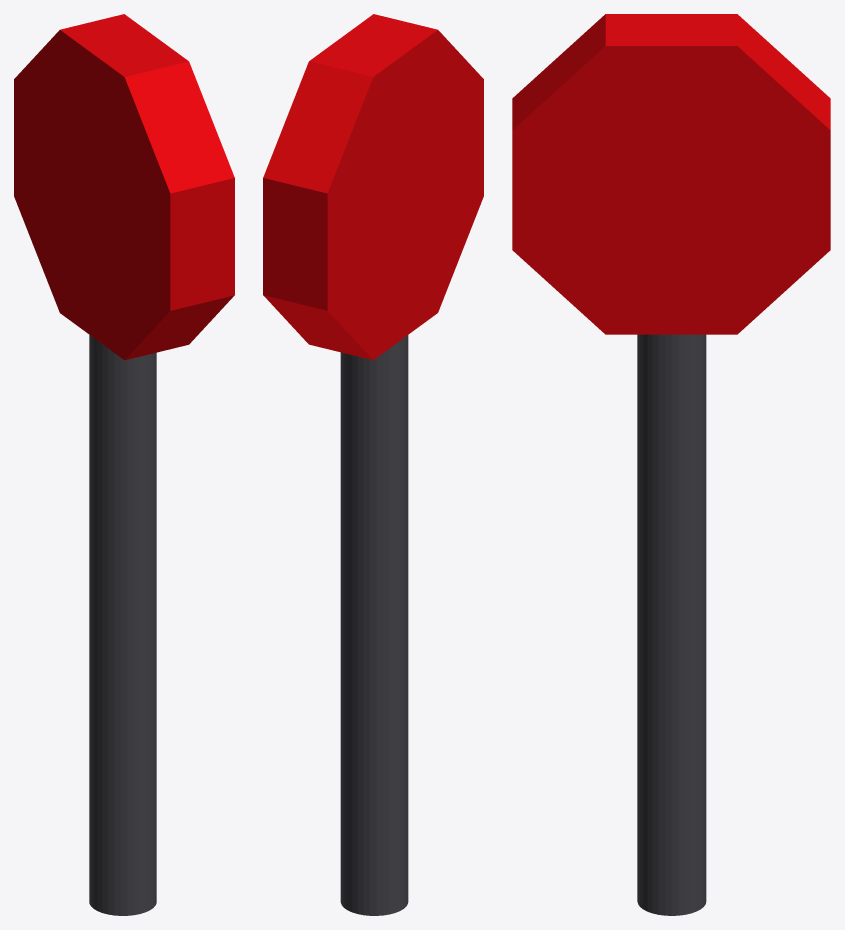
File: StopSign.fbx
3 views of the same model, side by side, from view 1: azimuth 30°, elevation 25°; view 2: azimuth 150°, elevation 25°; view 3: azimuth 270°, elevation 25° (orthographic).
Visible parts, largest first — view 1: Cylinder.001; view 2: Cylinder.001; view 3: Cylinder.001.
Part boxes in pixels (<box>): Cylinder.001: <box>14,14,234,915</box>; Cylinder.001: <box>263,14,483,915</box>; Cylinder.001: <box>512,14,830,915</box>.
Bounding box in the file's own units: 11 × 140 × 46.19.
